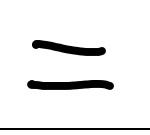eqv: (27, 40, 114, 90)
